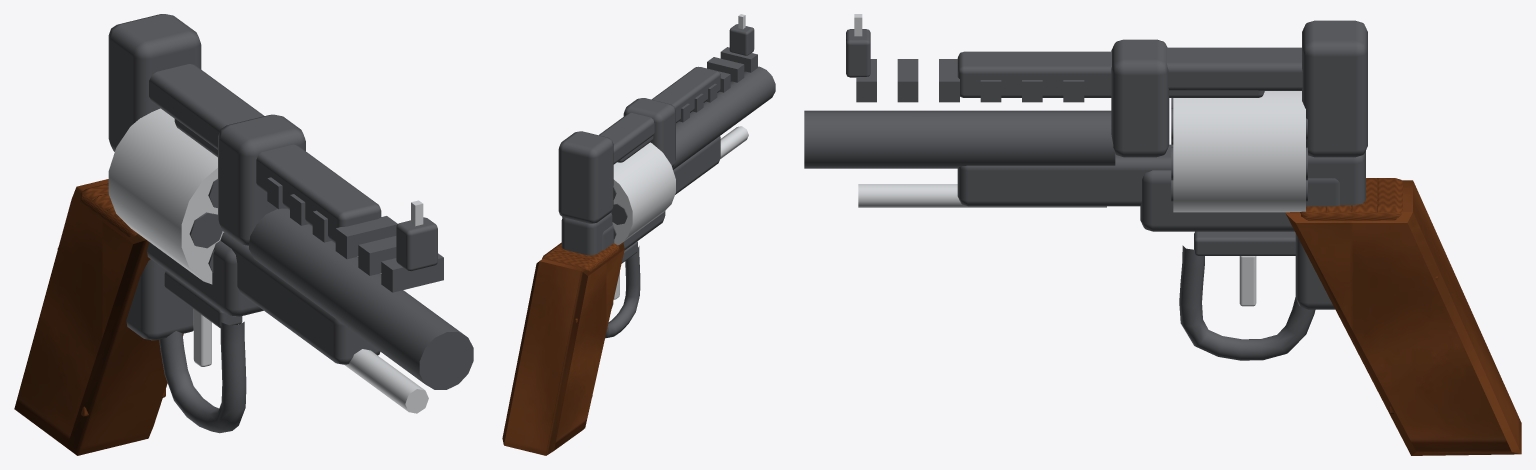
File: tactical-shooter-hill-town-heavy-revolver-2615cb81__27544.glb
3 views of the same model, side by side, from view 1: azimuth 30°, elevation 25°; view 2: azimuth 150°, elevation 25°; view 3: azimuth 270°, elevation 25° (orthographic). The views are drawn at different scales.
Visible parts, largest first — view 1: heavy-revolver, cylinder/steel, cylinder/iron; view 2: heavy-revolver, cylinder/steel, cylinder/iron; view 3: heavy-revolver, cylinder/steel.
Boxes of the visible parts, x1,y1,x2,y2 form: heavy-revolver: (14, 14, 473, 455); cylinder/steel: (108, 108, 223, 284); cylinder/iron: (189, 179, 222, 272); heavy-revolver: (502, 14, 775, 455); cylinder/steel: (562, 142, 675, 245); cylinder/iron: (611, 185, 627, 239); heavy-revolver: (804, 14, 1521, 455); cylinder/steel: (1173, 91, 1305, 212).
Bounding box in the file's own units: 0.063 × 0.226 × 0.346.
3 materials, 1 textured.
